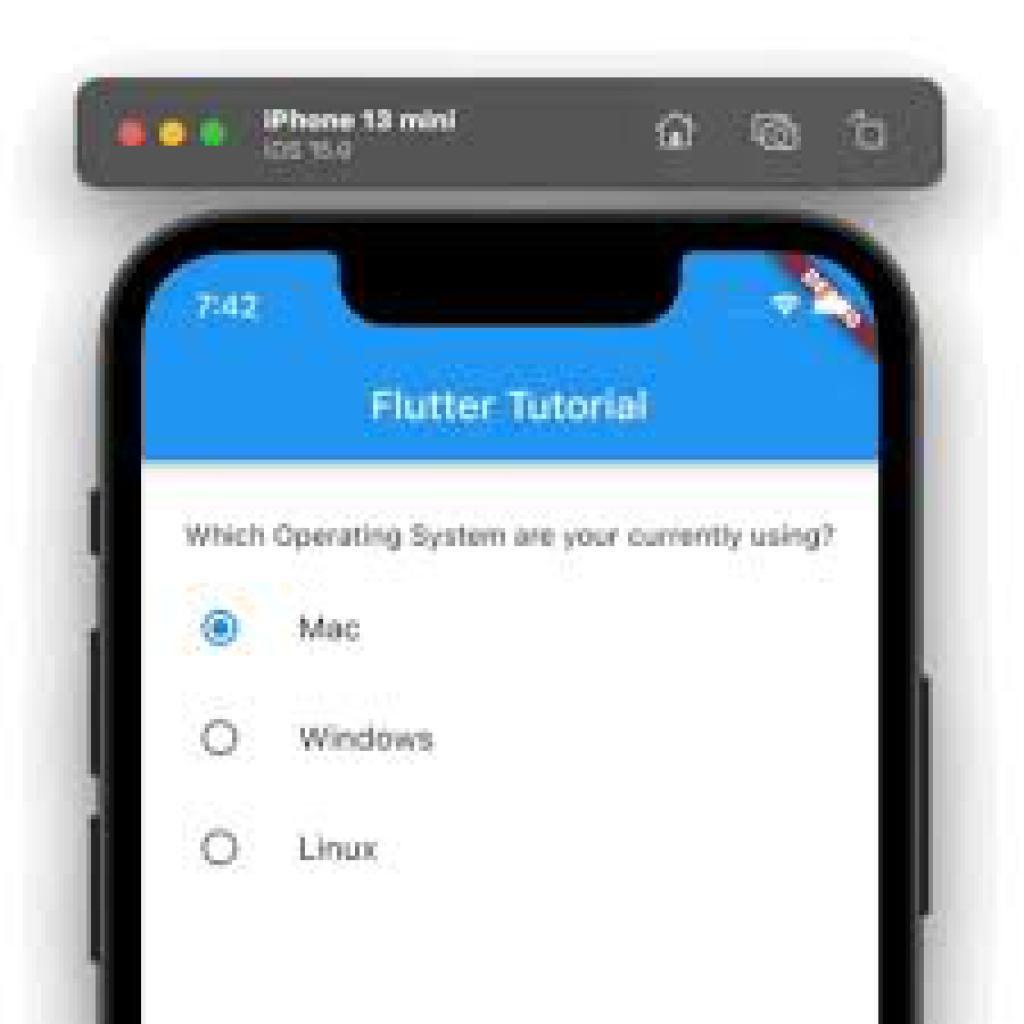icon: (747, 105, 812, 160), (651, 110, 703, 157), (848, 108, 891, 156)
label: (292, 718, 443, 762), (292, 827, 386, 874), (298, 611, 367, 651)
radio: (196, 606, 244, 652), (198, 718, 244, 760), (198, 826, 246, 865)
